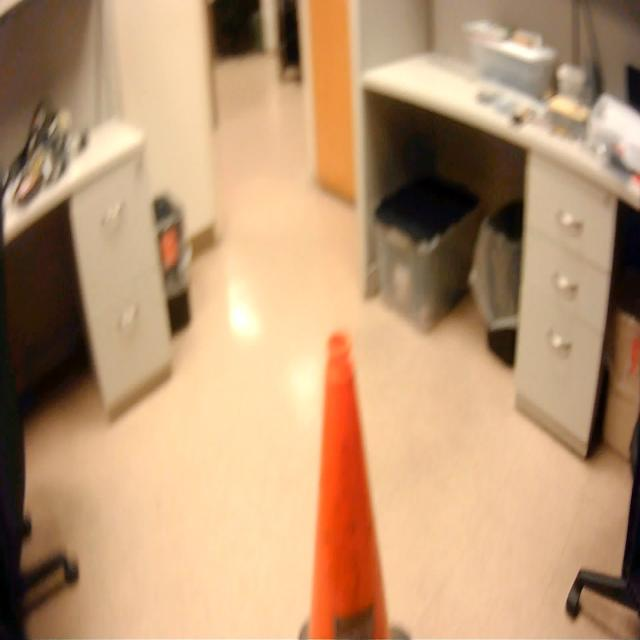traffic cone: (293, 326, 417, 640)
